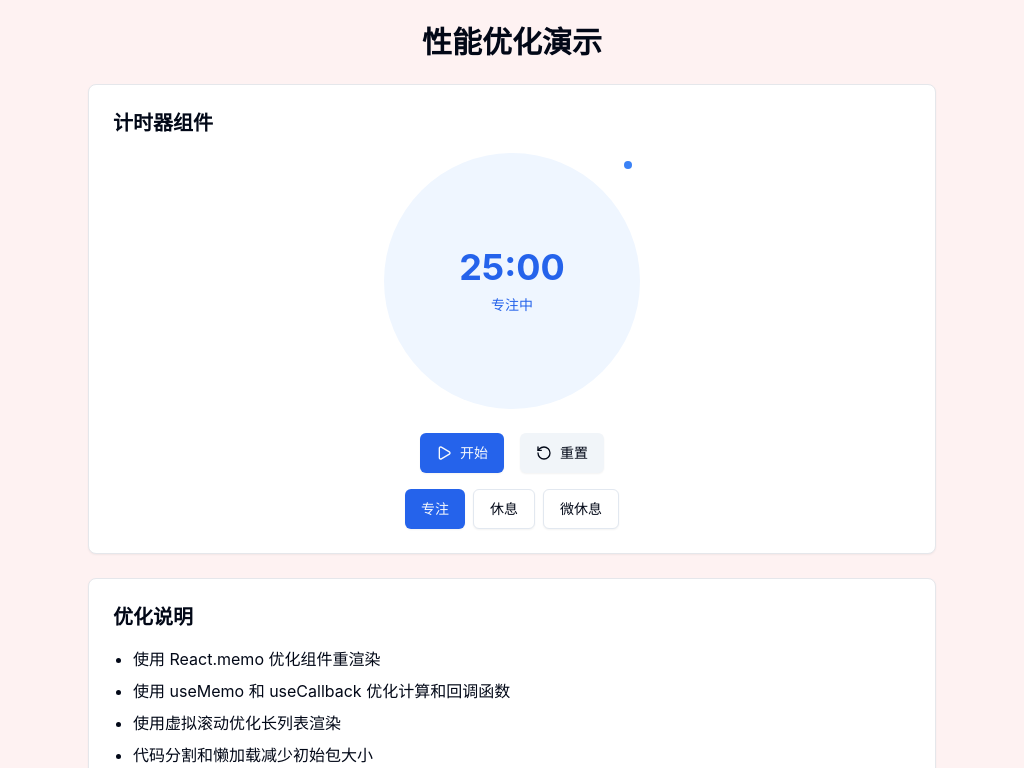
Scenario: TimerDisplay 性能优化测试 › 基准测试 › 应该切换不同状态
The image size is (1024, 768).
Click the button "休息" at (504, 509), box [473, 489, 535, 529]
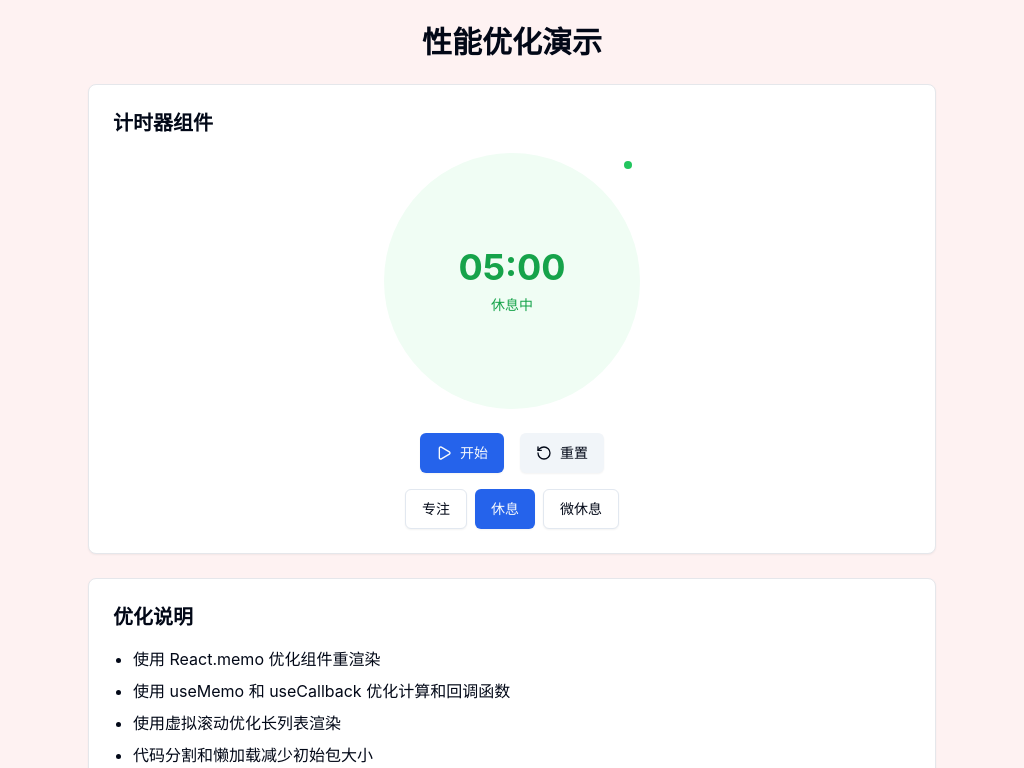
expect the text "05:00" is shown: met, box [458, 247, 566, 287]
Click the button "微休息" at (581, 509), box [543, 489, 619, 529]
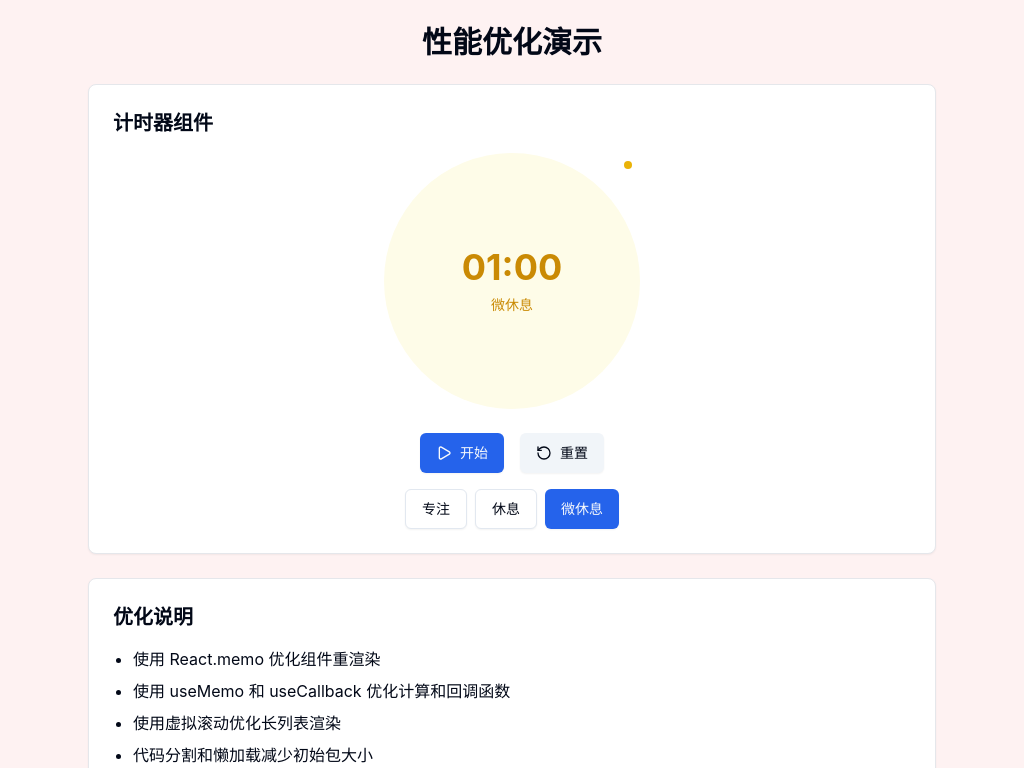
expect the text "01:00" is shown: met, box [462, 247, 562, 287]
